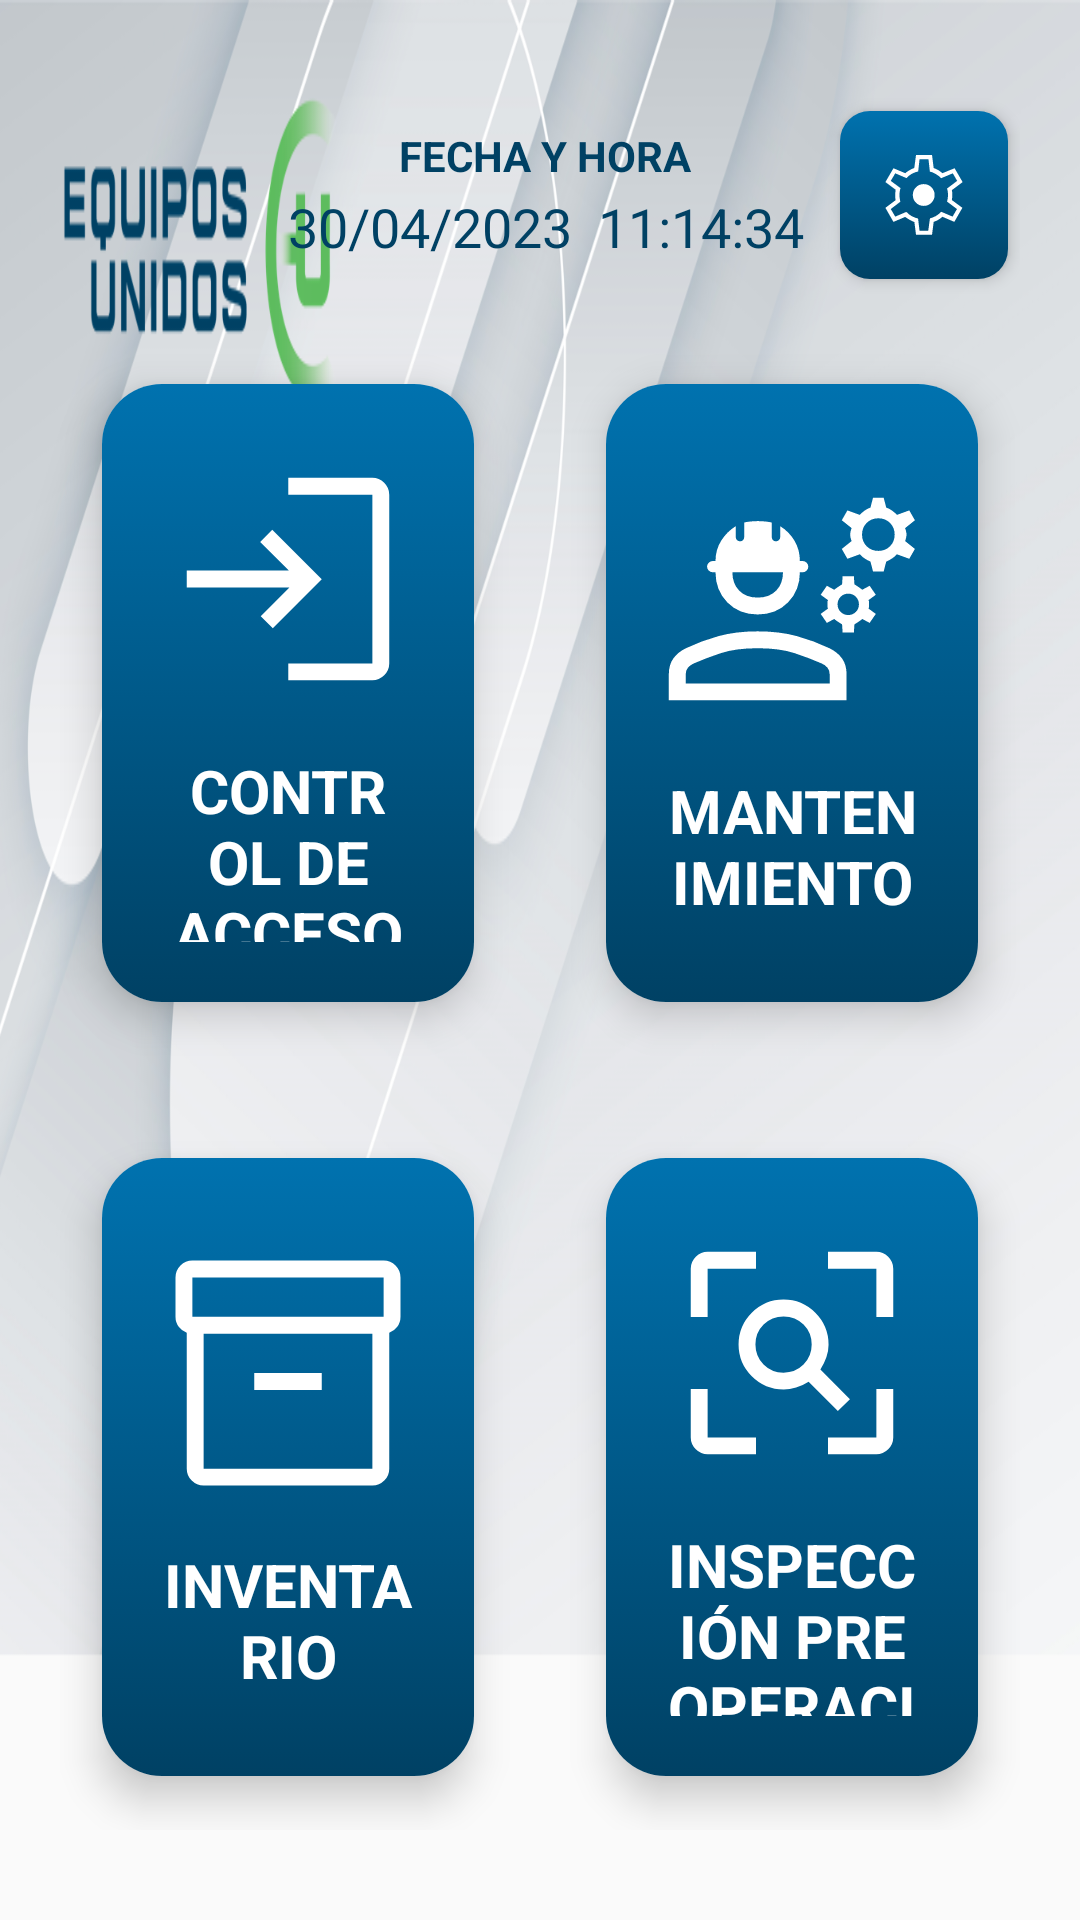

Where icons sit on this 1080w x 1920h app screen, as rect(x1, y1, x2, y2):
Configuración: rect(840, 111, 1008, 279)
